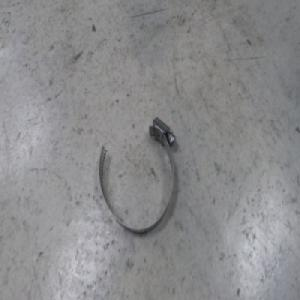AdjustableClamp: (97, 109, 182, 238)
